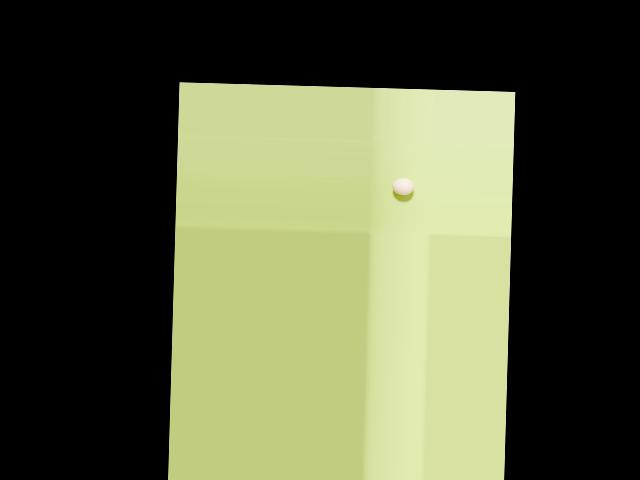egg: (391, 178, 413, 195)
